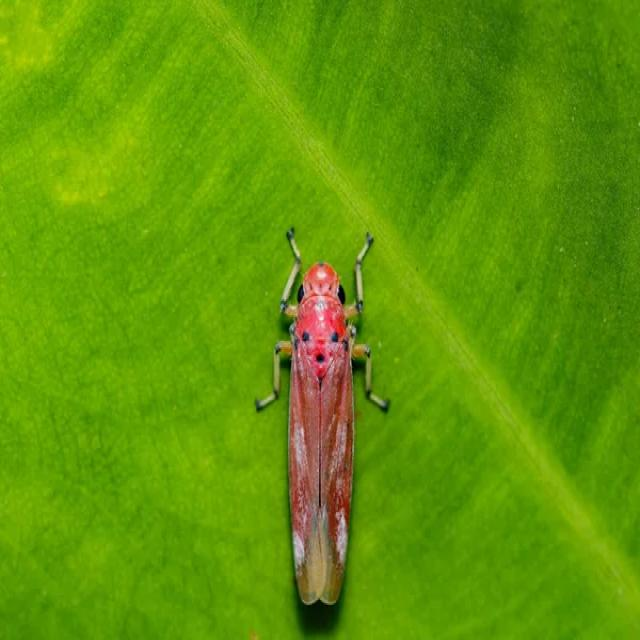Yechan: (235, 209, 402, 617)
